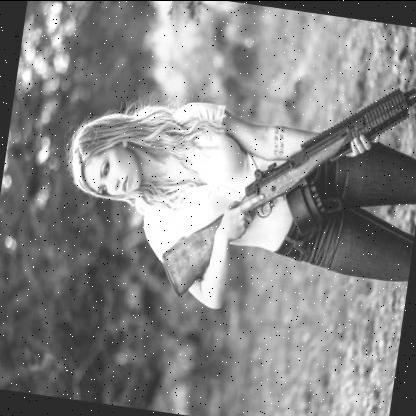rifle: (149, 38, 416, 327)
